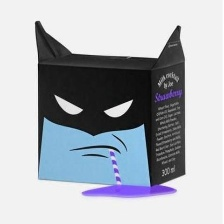carton: (28, 16, 195, 187)
